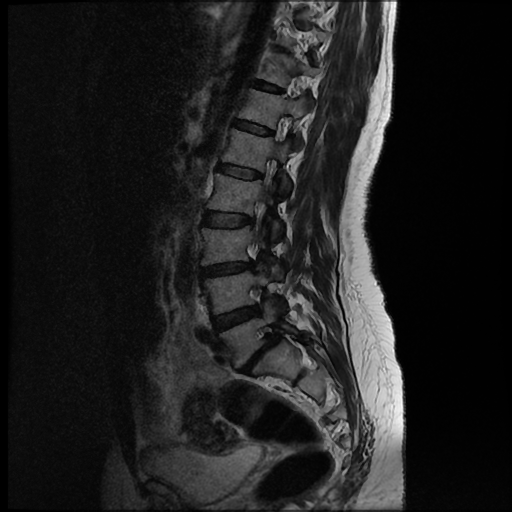LFS0: (245, 150, 288, 194)
LFS2: (234, 278, 273, 326)
